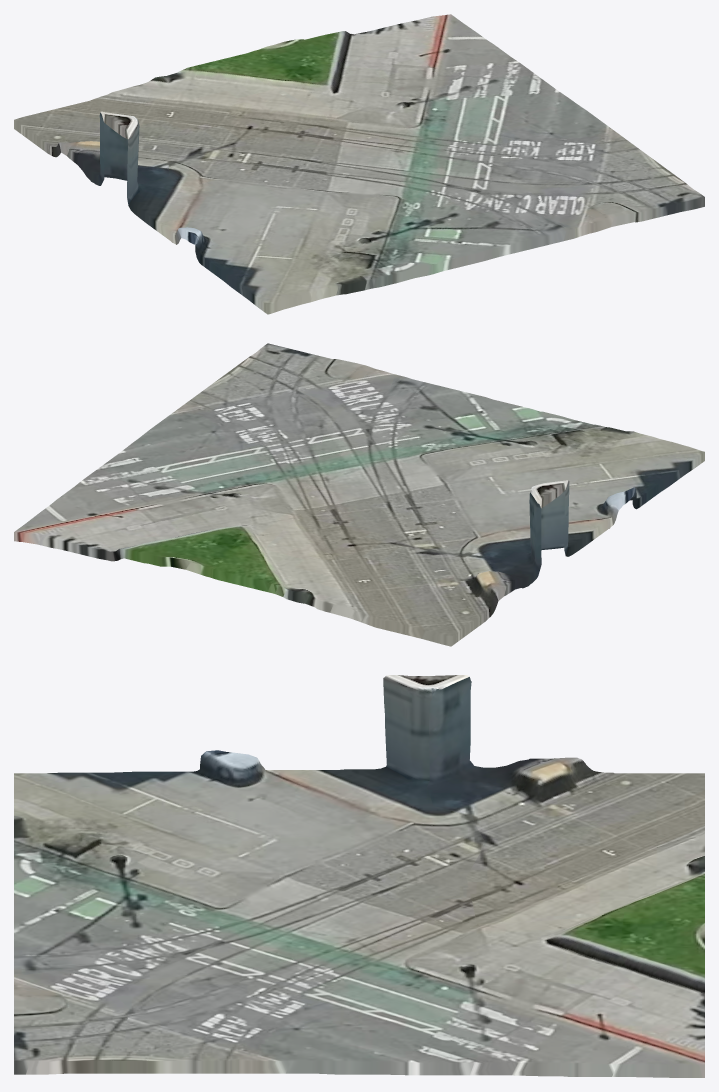
File: z20-167791-405225-h0-yup-uvflip-v3-world.glb
The picture shows the model from 3 angles, top to bottom: view 1: azimuth 30°, elevation 25°; view 2: azimuth 150°, elevation 25°; view 3: azimuth 270°, elevation 25°; orthographic projection. The views are drawn at different scales.
Size of the model in its own units: 30.16 by 5.44 by 30.32.
1 material, 1 textured.
